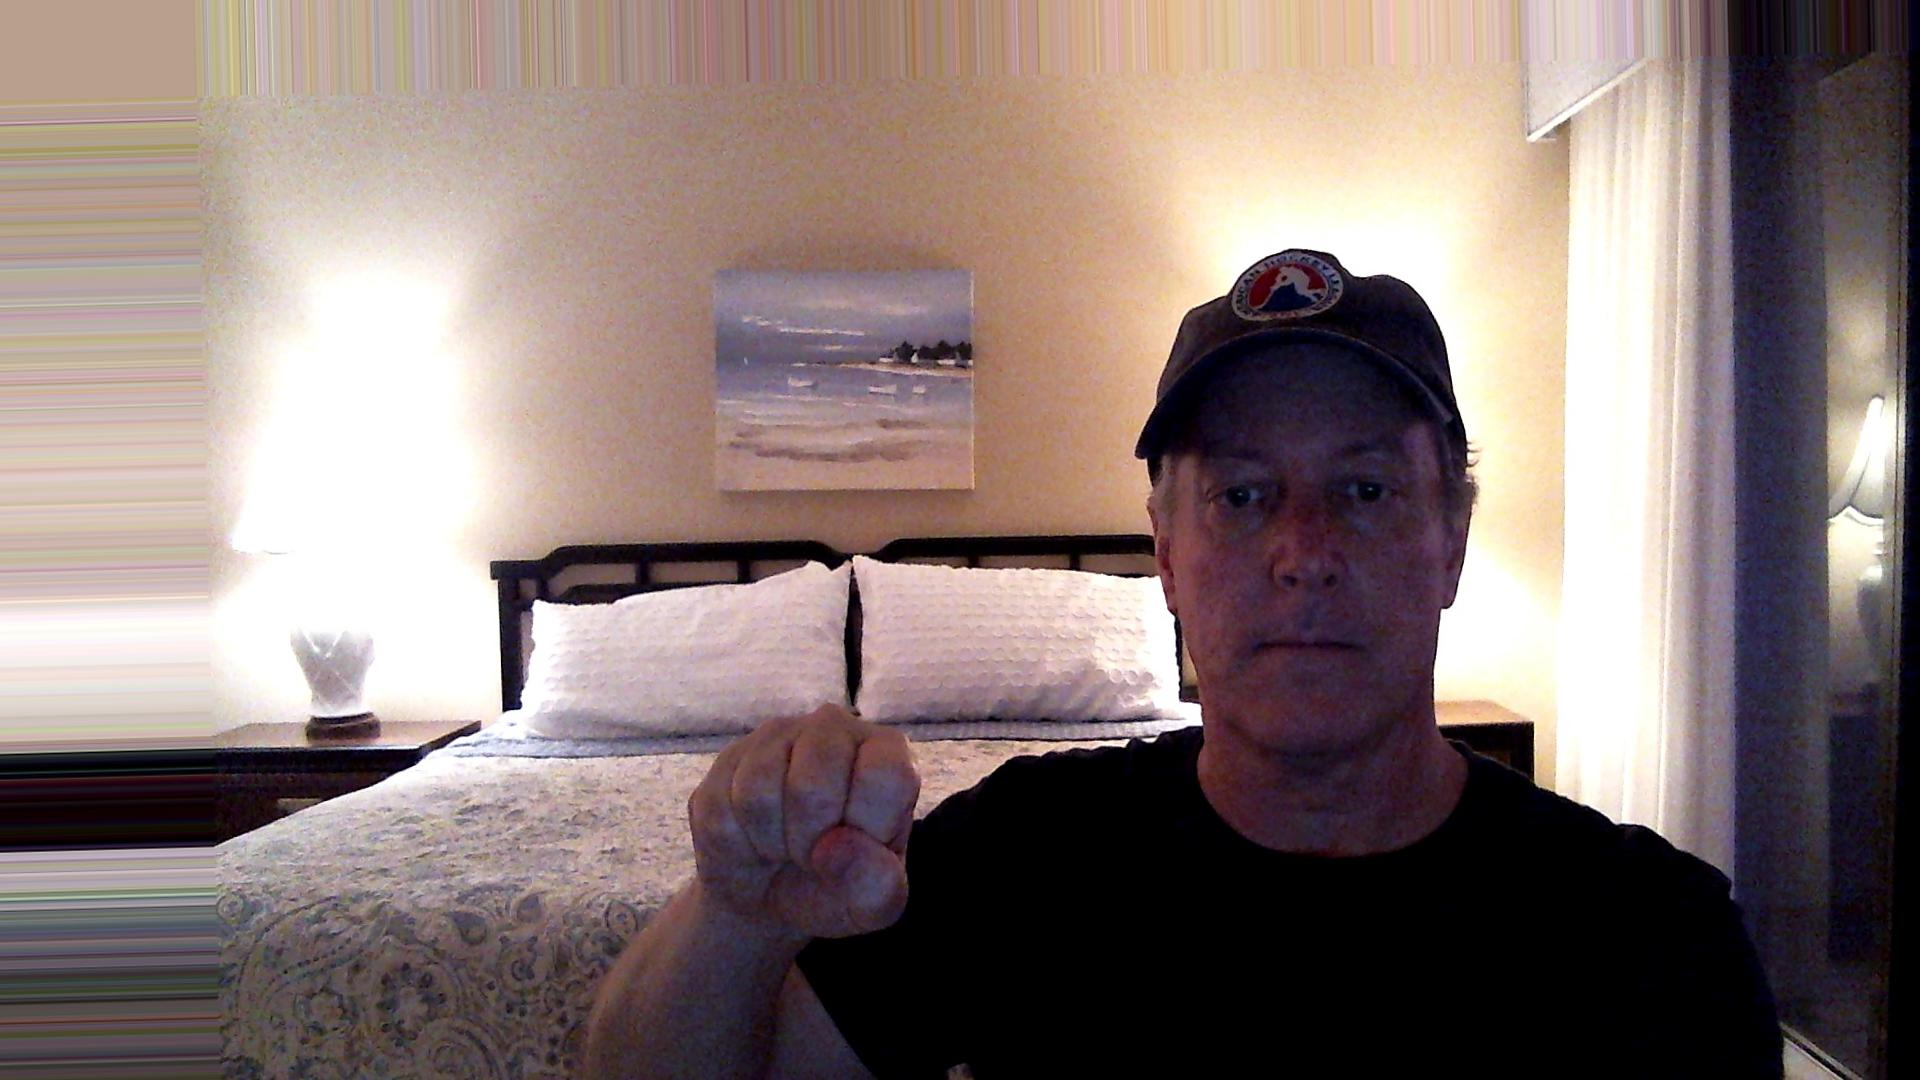Yes: (644, 684, 955, 953)
